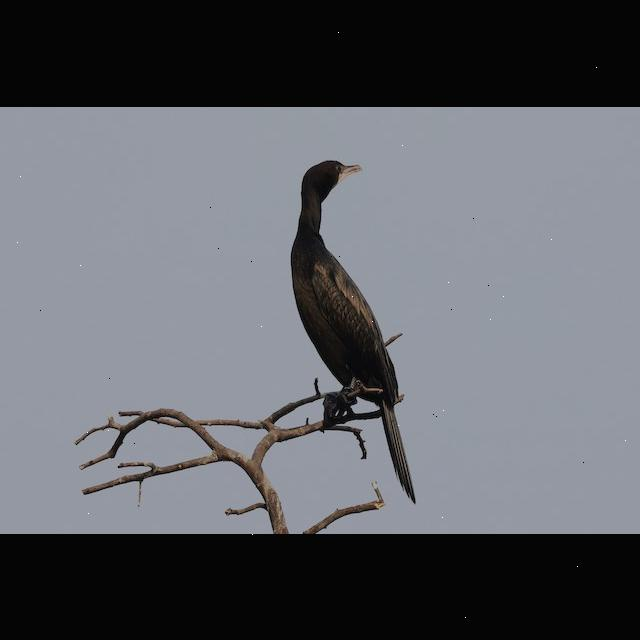cormorant: (288, 138, 426, 507)
